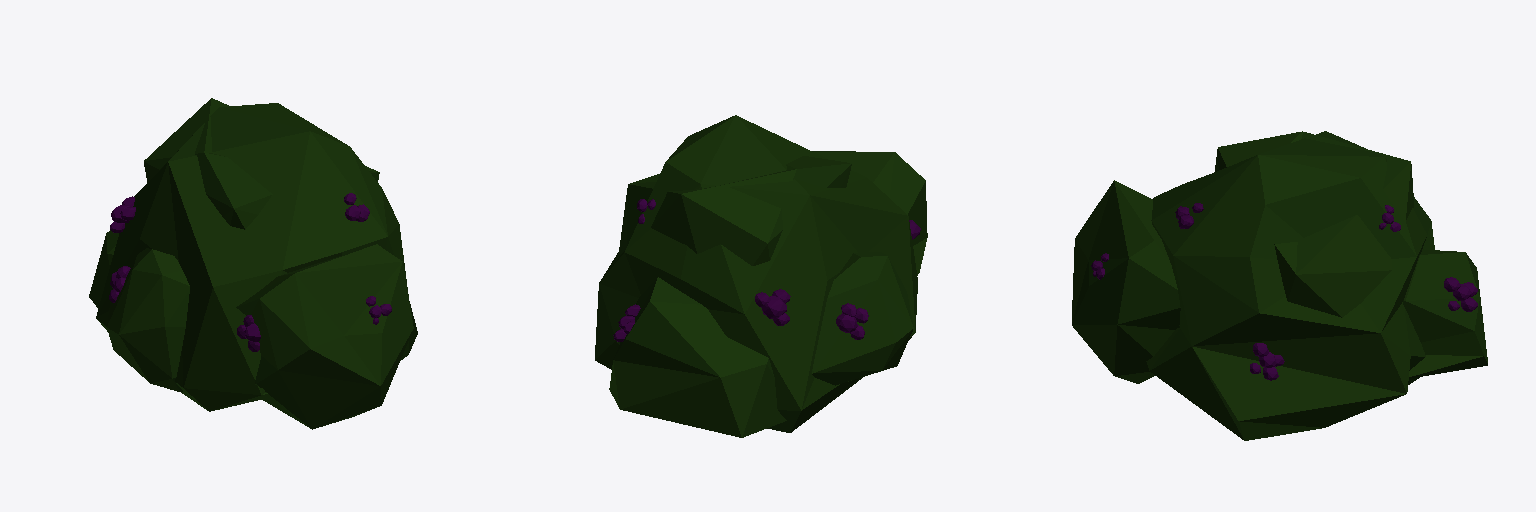
File: kust.yagodi.obj
The picture shows the model from 3 angles: view 1: azimuth 30°, elevation 25°; view 2: azimuth 150°, elevation 25°; view 3: azimuth 270°, elevation 25°; orthographic projection.
Visible parts, largest first — view 1: Cube.019_Cube.023; view 2: Cube.019_Cube.023; view 3: Cube.019_Cube.023.
Boxes of the visible parts, x1=… form: Cube.019_Cube.023: x1=89, y1=98, x2=417, y2=429; Cube.019_Cube.023: x1=595, y1=115, x2=927, y2=437; Cube.019_Cube.023: x1=1072, y1=131, x2=1487, y2=440.
Bounding box in the file's own units: 2.92 × 2.41 × 3.72.